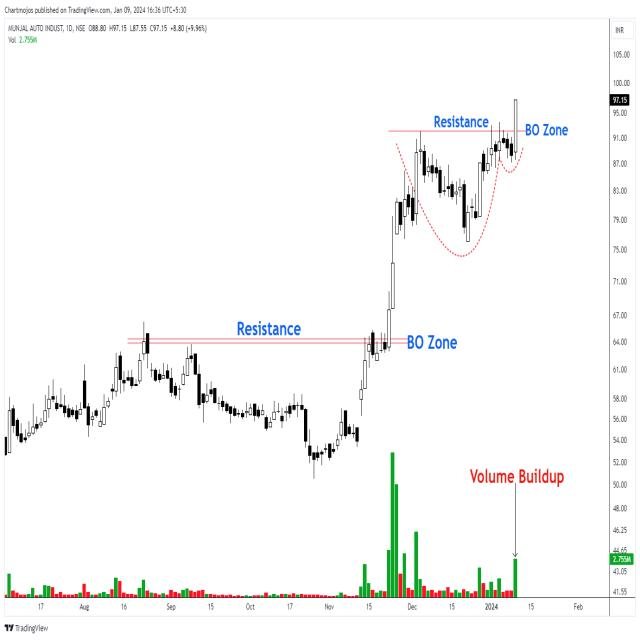Cup-and-handle: (410, 135, 530, 247)
